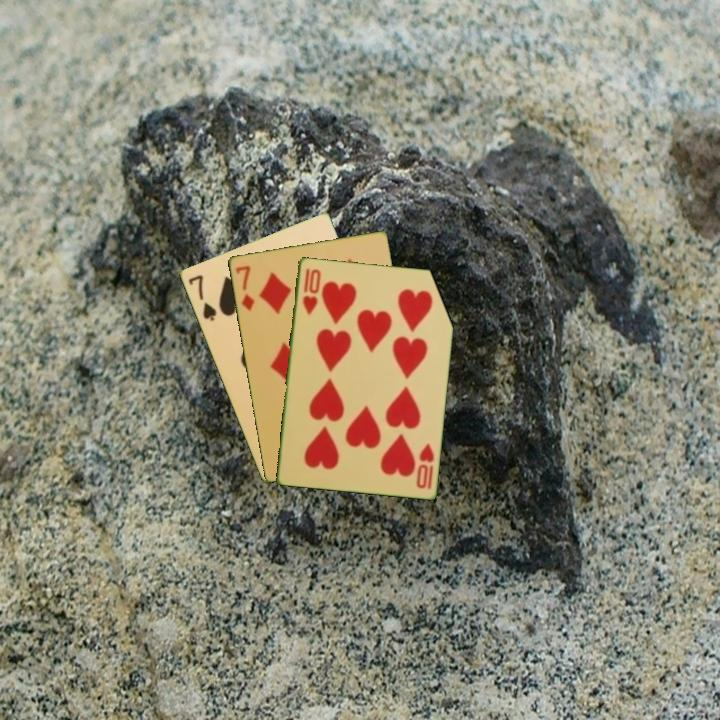10h: (412, 439, 437, 492), (299, 264, 322, 317)
7d: (232, 262, 257, 313)
7s: (184, 271, 219, 324)
